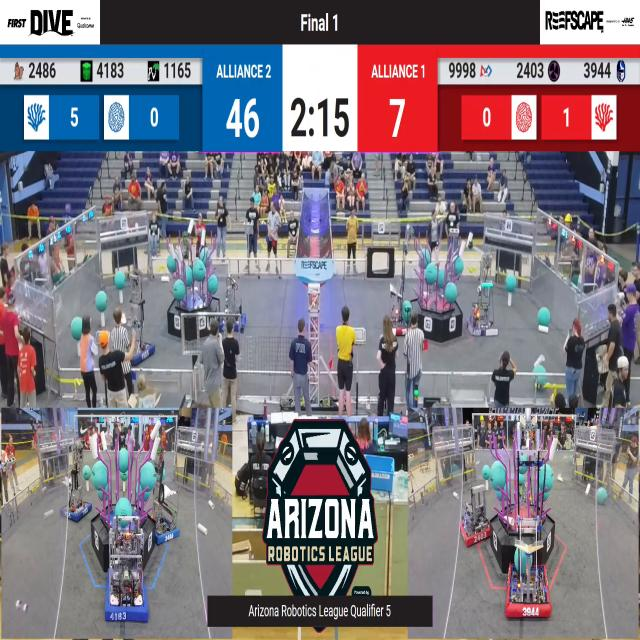scoreboard: (0, 42, 640, 150)
